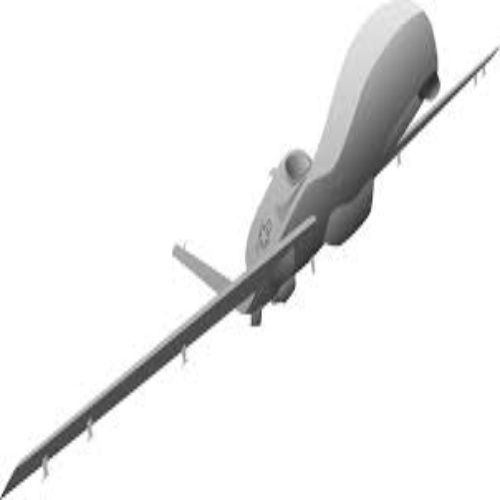uav: (1, 2, 500, 494)
